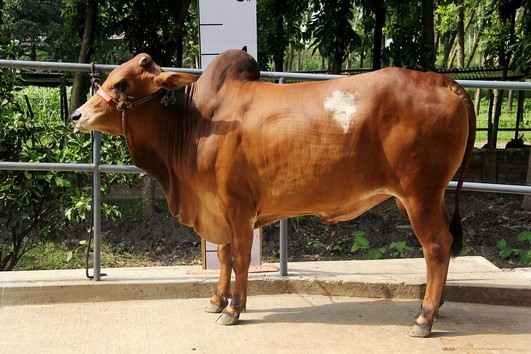cow: (68, 41, 476, 345)
